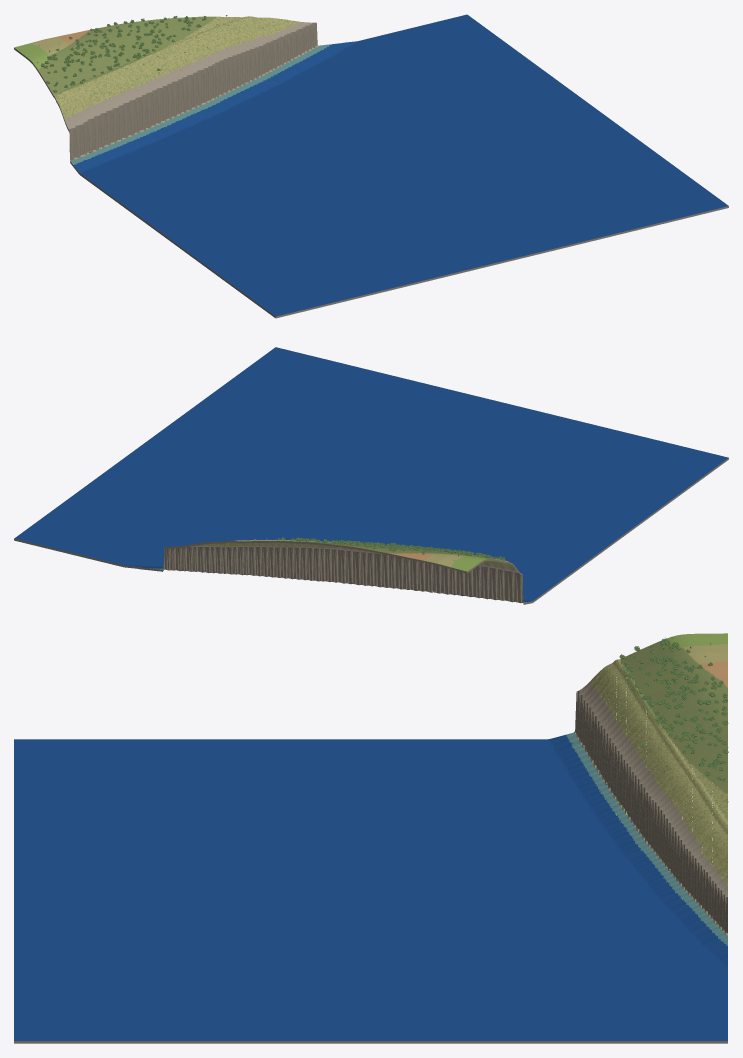
File: parca_+11_-8-yakin.glb
The picture shows the model from 3 angles, top to bottom: view 1: azimuth 30°, elevation 25°; view 2: azimuth 150°, elevation 25°; view 3: azimuth 270°, elevation 25°; orthographic projection. The views are drawn at different scales.
Visible parts, largest first — view 1: parca_+11_-8_arazi, parca_+11_-8_bitkiler; view 2: parca_+11_-8_arazi, parca_+11_-8_bitkiler; view 3: parca_+11_-8_arazi, parca_+11_-8_bitkiler.
Boxes of the visible parts, x1,y1,x2,y2 form: parca_+11_-8_arazi: (14, 14, 728, 318); parca_+11_-8_bitkiler: (37, 15, 264, 111); parca_+11_-8_arazi: (14, 347, 728, 604); parca_+11_-8_bitkiler: (254, 537, 505, 560); parca_+11_-8_arazi: (14, 633, 727, 1043); parca_+11_-8_bitkiler: (597, 636, 728, 866).
Bounding box in the file's own units: 1003 × 175 × 1002.
